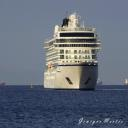cruises: (43, 11, 104, 93)
